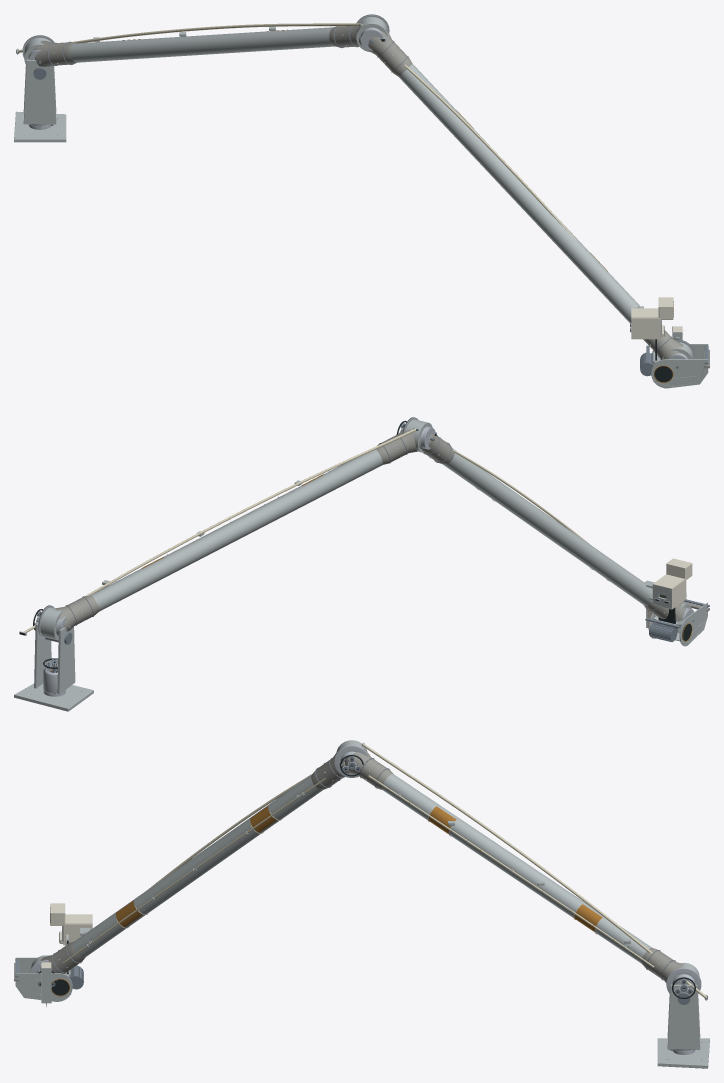
File: phoenix-arm.glb
3 renders of one model, top to bottom at view 1: azimuth 90°, elevation 25°; view 2: azimuth 150°, elevation 25°; view 3: azimuth 270°, elevation 25°, orthographic. The views are drawn at different scales.
Visible parts, largest first — view 1: FOREARM_STRUCTURE_TUBE_Phoenix_machined_aluminium, ARM_LINKS_TUBE_Phoenix_machined_aluminium, RA_SHOULDER_YOKE_Phoenix_machined_aluminium, ARM_LINKS_TITANIUM_END_FITTINGS_Titanium_traction_bands (×2), SCOOP_SHELL_Phoenix_machined_aluminium, ARM_BASE_Phoenix_machined_aluminium, RA_UPPER_SERVICE_LOOP_Phoenix_white_cable_insulation, FOREARM_STRUCTURE_TITANIUM_END_FITTINGS_Titanium_traction_ba, RAC_THERMAL_PANELS_Phoenix_ivory_thermal_coating, RA_FOREARM_SERVICE_LOOP_Phoenix_white_cable_insulation; view 2: ARM_LINKS_TUBE_Phoenix_machined_aluminium, FOREARM_STRUCTURE_TUBE_Phoenix_machined_aluminium, RA_SHOULDER_YOKE_Phoenix_machined_aluminium, ARM_LINKS_TITANIUM_END_FITTINGS_Titanium_traction_bands (×2), RA_UPPER_SERVICE_LOOP_Phoenix_white_cable_insulation, ARM_BASE_Phoenix_machined_aluminium, ARM_LINKS_Phoenix_machined_aluminium, SCOOP_SHELL_Phoenix_machined_aluminium, RAC_THERMAL_PANELS_Phoenix_ivory_thermal_coating, FOREARM_STRUCTURE_TITANIUM_END_FITTINGS_Titanium_traction_ba; view 3: ARM_LINKS_TUBE_Phoenix_machined_aluminium, FOREARM_STRUCTURE_TUBE_Phoenix_machined_aluminium, RA_SHOULDER_YOKE_Phoenix_machined_aluminium, ARM_LINKS_TITANIUM_END_FITTINGS_Titanium_traction_bands (×2), FOREARM_STRUCTURE_TITANIUM_END_FITTINGS_Titanium_traction_ba (×2), RA_UPPER_SERVICE_LOOP_Phoenix_white_cable_insulation, SCOOP_SHELL_Phoenix_machined_aluminium, ARM_BASE_Phoenix_machined_aluminium, ARM_LINKS_BEAM_SIDE_LOOM_Phoenix_white_cable_insulation, RA_UPPER_THERMAL_WRAP_Phoenix_polyimide_blanket_seam, RA_FORE_THERMAL_WRAP_Phoenix_polyimide_blanket_seam, FOREARM_STRUCTURE_BEAM_SIDE_LOOM_Phoenix_white_cable_insulat (+2 smaller).
Part boxes in pixels (box(x1,y1,x2,y2)): FOREARM_STRUCTURE_TUBE_Phoenix_machined_aluminium: box(399, 64, 639, 323); ARM_LINKS_TUBE_Phoenix_machined_aluminium: box(70, 27, 334, 62); RA_SHOULDER_YOKE_Phoenix_machined_aluminium: box(23, 59, 56, 124); ARM_LINKS_TITANIUM_END_FITTINGS_Titanium_traction_bands (×2): box(34, 26, 361, 66); SCOOP_SHELL_Phoenix_machined_aluminium: box(651, 344, 708, 388); ARM_BASE_Phoenix_machined_aluminium: box(14, 111, 66, 142); RA_UPPER_SERVICE_LOOP_Phoenix_white_cable_insulation: box(17, 23, 359, 52); FOREARM_STRUCTURE_TITANIUM_END_FITTINGS_Titanium_traction_ba: box(368, 29, 412, 76); RAC_THERMAL_PANELS_Phoenix_ivory_thermal_coating: box(631, 308, 660, 339); RA_FOREARM_SERVICE_LOOP_Phoenix_white_cable_insulation: box(361, 24, 576, 240); ARM_LINKS_TUBE_Phoenix_machined_aluminium: box(91, 449, 382, 611); FOREARM_STRUCTURE_TUBE_Phoenix_machined_aluminium: box(443, 449, 652, 605); RA_SHOULDER_YOKE_Phoenix_machined_aluminium: box(34, 623, 75, 694); ARM_LINKS_TITANIUM_END_FITTINGS_Titanium_traction_bands (×2): box(54, 429, 422, 631); RA_UPPER_SERVICE_LOOP_Phoenix_white_cable_insulation: box(23, 428, 416, 632); ARM_BASE_Phoenix_machined_aluminium: box(14, 683, 93, 711); ARM_LINKS_Phoenix_machined_aluminium: box(40, 419, 432, 640); SCOOP_SHELL_Phoenix_machined_aluminium: box(648, 602, 707, 646); RAC_THERMAL_PANELS_Phoenix_ivory_thermal_coating: box(652, 574, 686, 609); FOREARM_STRUCTURE_TITANIUM_END_FITTINGS_Titanium_traction_ba: box(422, 433, 454, 464); ARM_LINKS_TUBE_Phoenix_machined_aluminium: box(382, 774, 651, 963); FOREARM_STRUCTURE_TUBE_Phoenix_machined_aluminium: box(73, 774, 322, 957); RA_SHOULDER_YOKE_Phoenix_machined_aluminium: box(667, 984, 700, 1049); ARM_LINKS_TITANIUM_END_FITTINGS_Titanium_traction_bands (×2): box(344, 748, 683, 984); FOREARM_STRUCTURE_TITANIUM_END_FITTINGS_Titanium_traction_ba (×2): box(40, 751, 348, 973); RA_UPPER_SERVICE_LOOP_Phoenix_white_cable_insulation: box(363, 743, 706, 997); SCOOP_SHELL_Phoenix_machined_aluminium: box(15, 957, 72, 1001); ARM_BASE_Phoenix_machined_aluminium: box(657, 1038, 709, 1068); ARM_LINKS_BEAM_SIDE_LOOM_Phoenix_white_cable_insulation: box(368, 775, 654, 967); RA_UPPER_THERMAL_WRAP_Phoenix_polyimide_blanket_seam: box(428, 806, 602, 931); RA_FORE_THERMAL_WRAP_Phoenix_polyimide_blanket_seam: box(116, 806, 276, 927); FOREARM_STRUCTURE_BEAM_SIDE_LOOM_Phoenix_white_cable_insulat: box(63, 778, 326, 963).
Size of the model in its own units: 1.14 by 0.9088 by 1.87.
